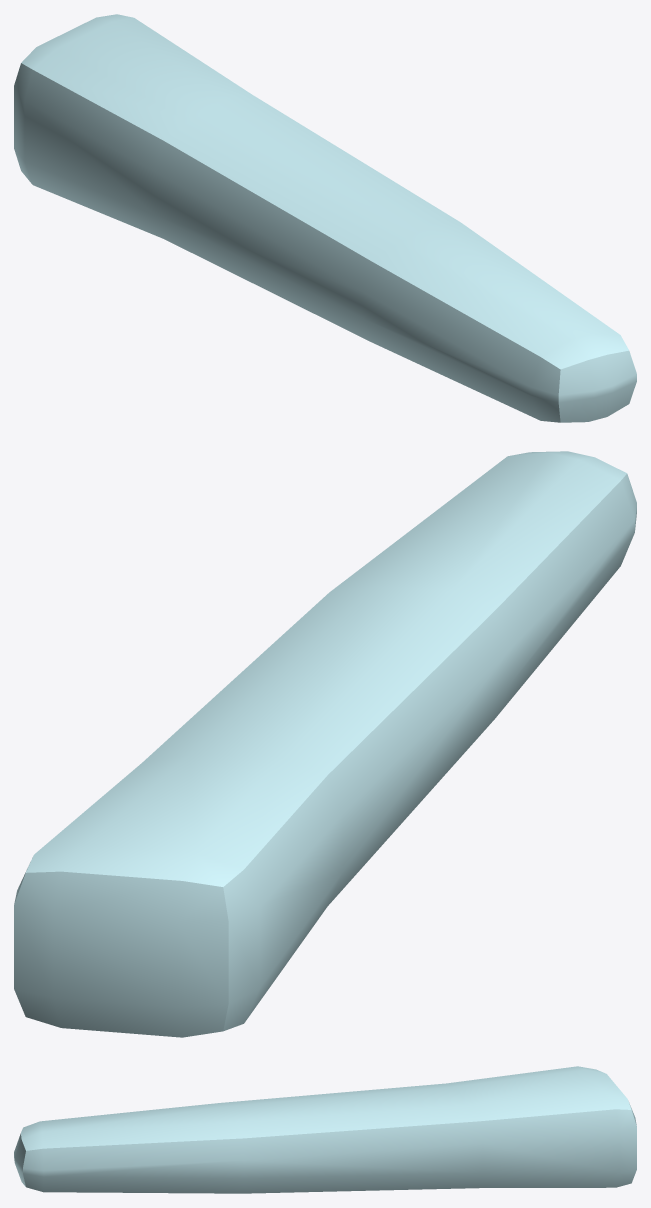
The model's file is Fries03.fbx.
3 renders of one model, top to bottom at view 1: azimuth 30°, elevation 25°; view 2: azimuth 150°, elevation 25°; view 3: azimuth 270°, elevation 25°, orthographic. The views are drawn at different scales.
Parts seen in each view (by area): view 1: Fries03; view 2: Fries03; view 3: Fries03.
Part boxes in pixels (left/top/right/bottom): Fries03: left=14, top=14, right=636, bottom=422; Fries03: left=14, top=451, right=636, bottom=1037; Fries03: left=14, top=1066, right=636, bottom=1193.
Bounding box in the file's own units: 0.0366 × 0.0218 × 0.1348.
